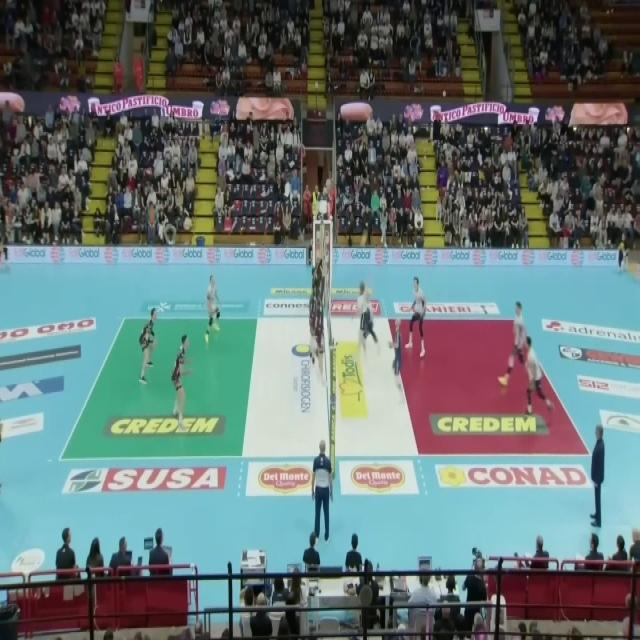volleyball court: (60, 315, 589, 462)
